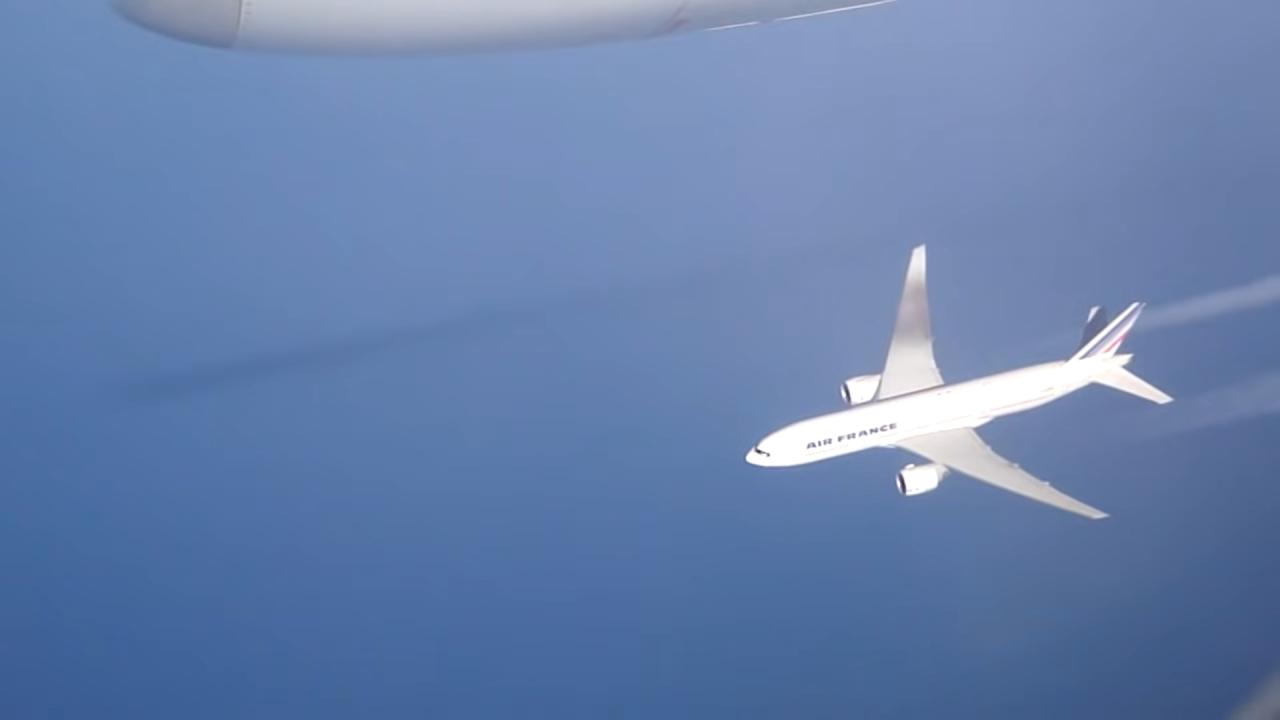Airplane: (731, 231, 1187, 534)
